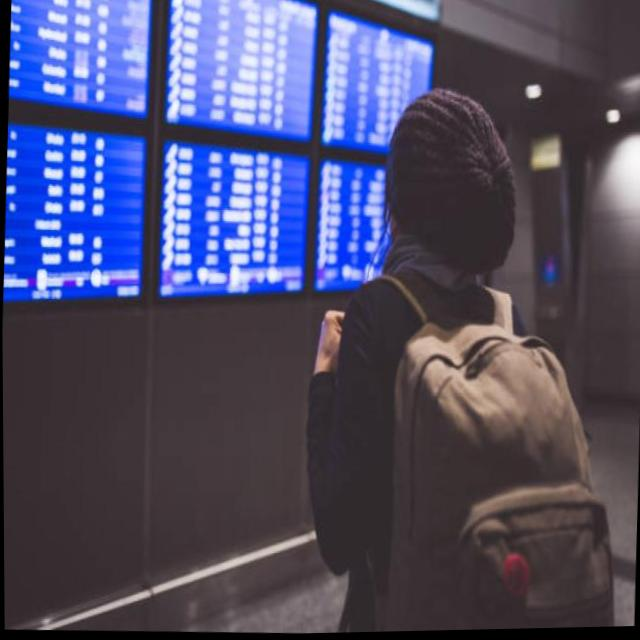no helmet: (369, 68, 520, 303)
